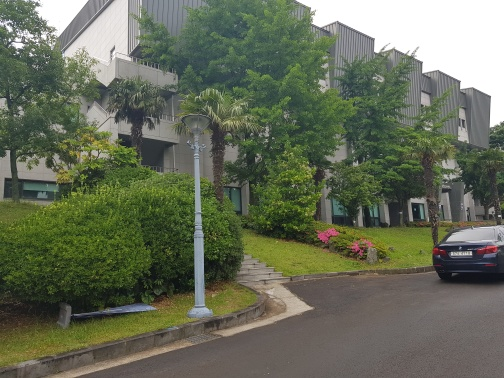Gym: (69, 10, 496, 223), (317, 19, 492, 156)
